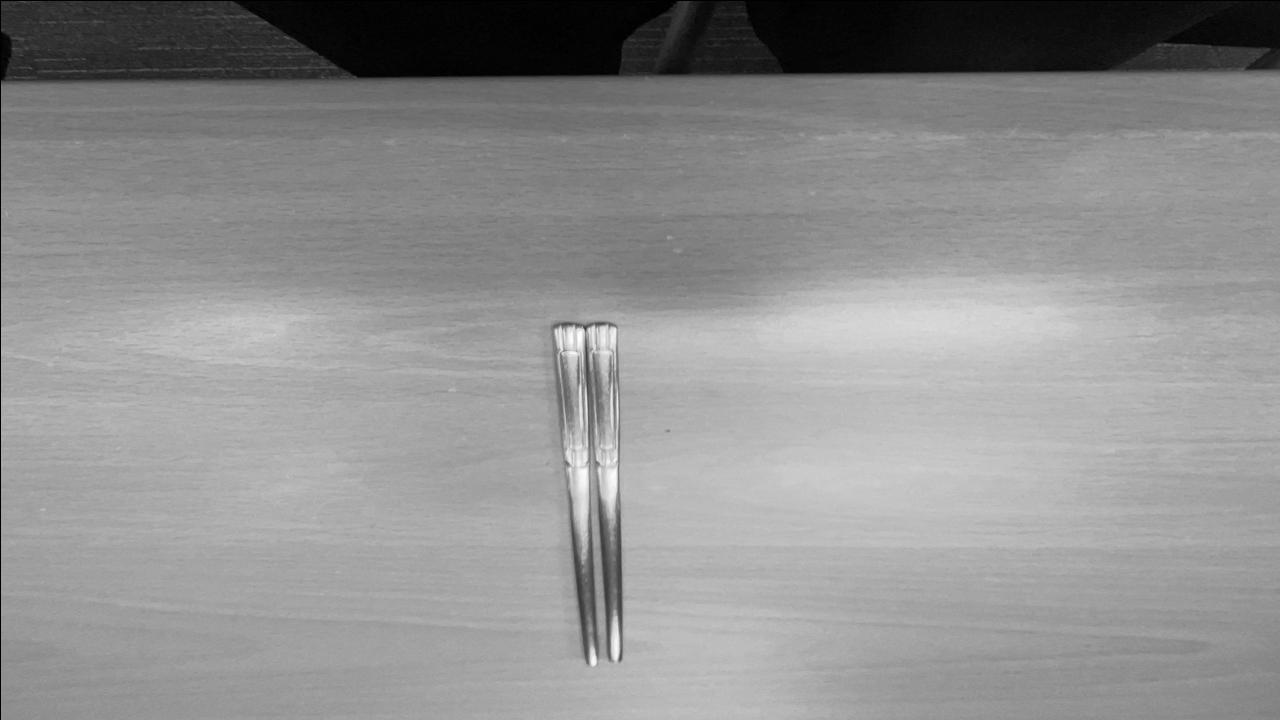chopstick: (544, 319, 636, 667)
